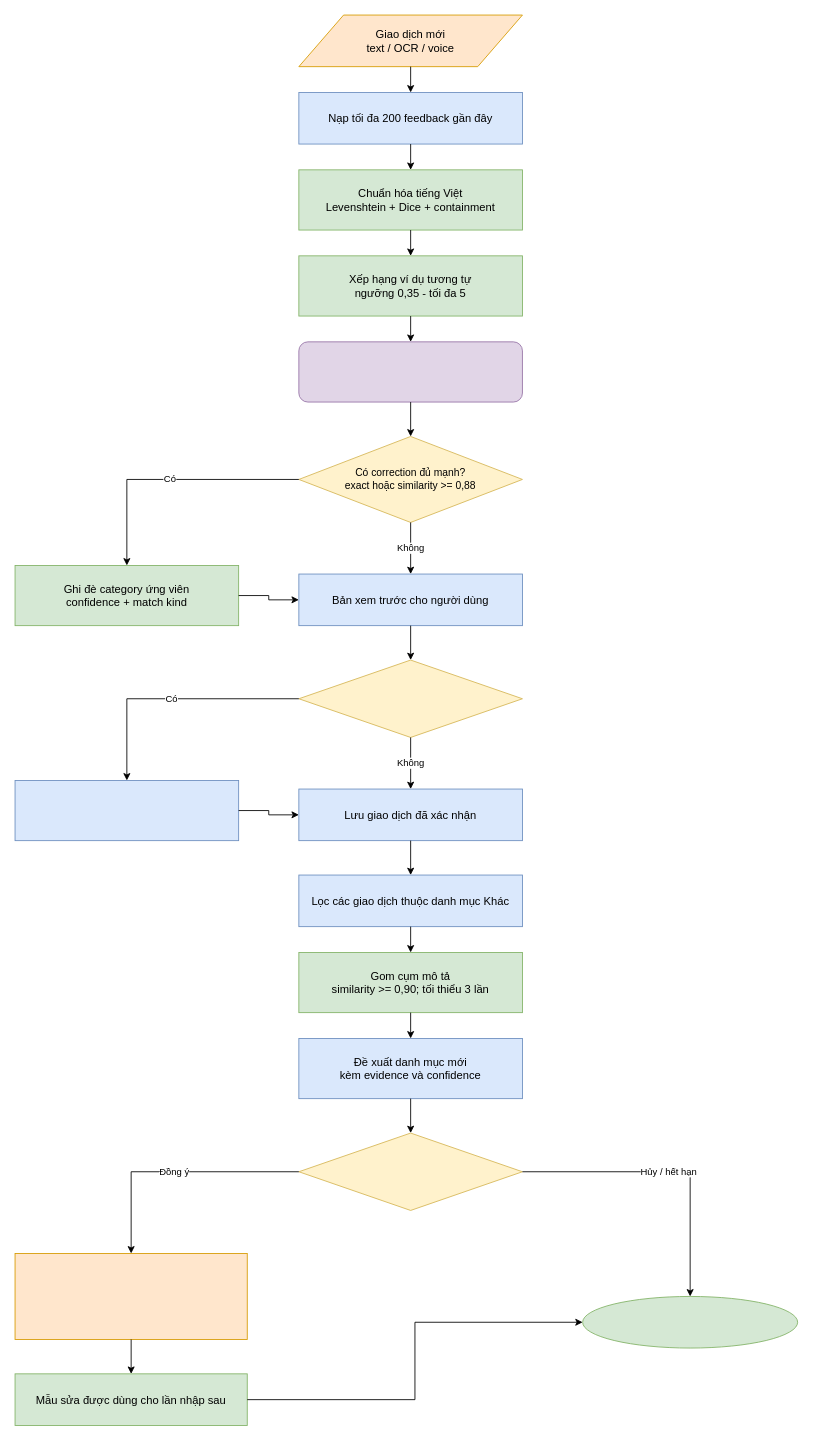
This 813x1441 diagram has some shape labels left out. Each missing label, with the centre of its shape:
"BEGIN tạo / tái dùng category re-tag tối đa 200 giao dịch ghi feedback - COMMIT" goes at (130,1296).
"Kết thúc hoặc chờ thêm dữ liệu" goes at (690,1322).
"LLM function calling hoặc local parser" goes at (410,371).
"Lưu ai_feedback_logs classification / extraction" goes at (126,810).
"Người dùng sửa kết quả AI?" goes at (410,698).
"Xác nhận kế hoạch re-tag có TTL?" goes at (410,1171).
